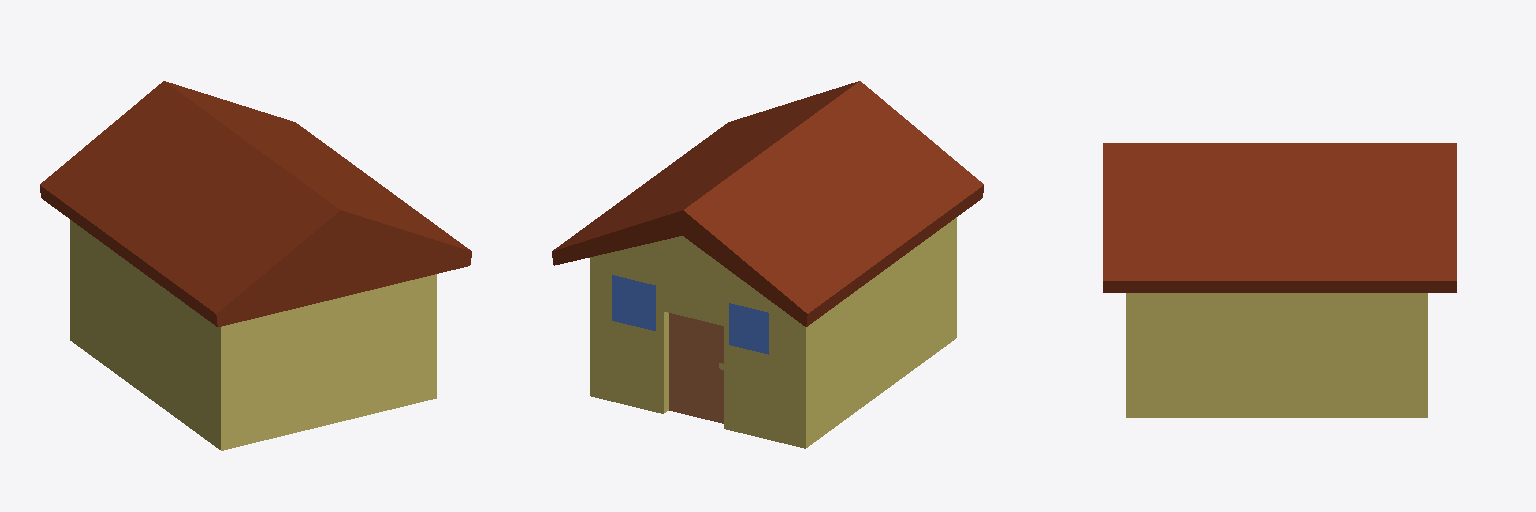
The model's file is House2.obj.
The picture shows the model from 3 angles: view 1: azimuth 30°, elevation 25°; view 2: azimuth 150°, elevation 25°; view 3: azimuth 270°, elevation 25°; orthographic projection.
Visible parts, largest first — view 1: Mesh1 simple_house_2_1 Model; view 2: Mesh1 simple_house_2_1 Model; view 3: Mesh1 simple_house_2_1 Model.
Part boxes in pixels (x1,y1,x2,y2): Mesh1 simple_house_2_1 Model: (40, 81, 471, 450); Mesh1 simple_house_2_1 Model: (552, 81, 983, 448); Mesh1 simple_house_2_1 Model: (1103, 143, 1456, 417).
Bounding box in the file's own units: 768 × 638 × 918.